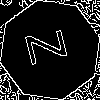Z: (25, 25, 77, 66)
